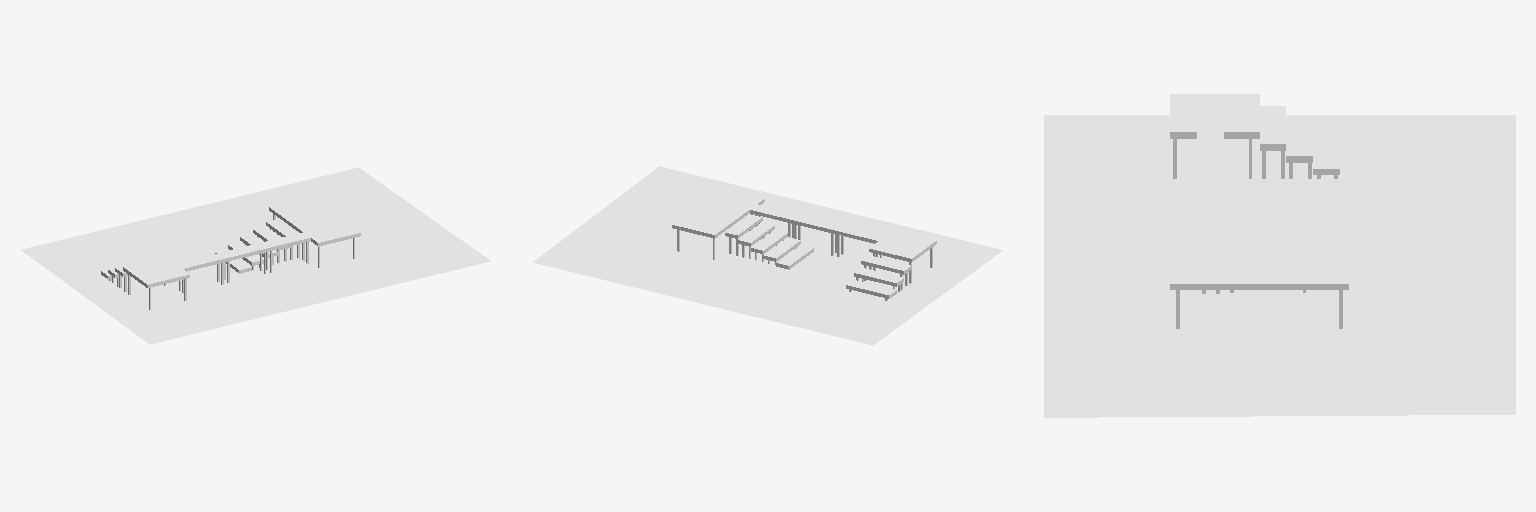
The robot description file, URDF, robot "stair_bauzil":
<robot name="stair_bauzil">
  <link name="base_link">
    <visual>
      <origin xyz="0 0 0" rpy="0 0 0" />
      <geometry>
        <mesh filename="package://hpp-rbprm-corba/meshes/bauzil_stairs_noRamp.stl"/>
      </geometry>
      <material name="white">
        <color rgba="1 1 1 1"/>
      </material>
    </visual>
    <collision>
      <origin xyz="0 0 0" rpy="0 0 0" />
      <geometry>
        <mesh filename="package://hpp-rbprm-corba/meshes/bauzil_stairs_noRamp.stl"/>
      </geometry>
    </collision>
  </link>
</robot>

--- Facts derived from the render (not from the file) ---
The picture shows the robot from 3 angles, left to right: view 1: azimuth 30°, elevation 25°; view 2: azimuth 150°, elevation 25°; view 3: azimuth 270°, elevation 25°; orthographic projection.
Model stair_bauzil with 1 links and 0 joints (none), rooted at base_link, posed all joints at 0.
Links seen in each view (by area): view 1: base_link; view 2: base_link; view 3: base_link.
Boxes of the visible links, <box> form: base_link: <box>21,167,490,343</box>; base_link: <box>533,166,1002,345</box>; base_link: <box>1044,94,1515,417</box>.
Size in the robot's own frame: 8 by 5.25 by 0.6 metres.
Meshes: 1 distinct files referenced, 1 mesh visuals loaded (1 binary STL).
